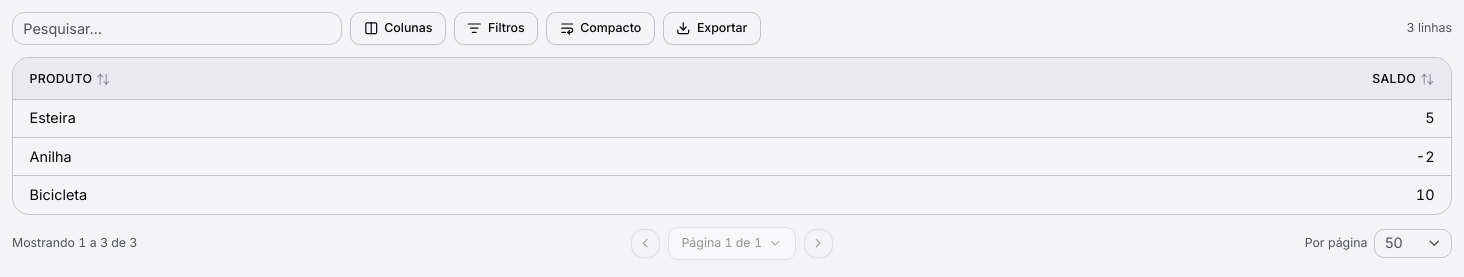
Scenario: DataTable busca (c2) › filtra por texto em coluna texto
The image size is (1464, 277).
Type "este" into the field with placeholder "Pesquisar…" at coordinates (177, 28), box [12, 12, 342, 45]
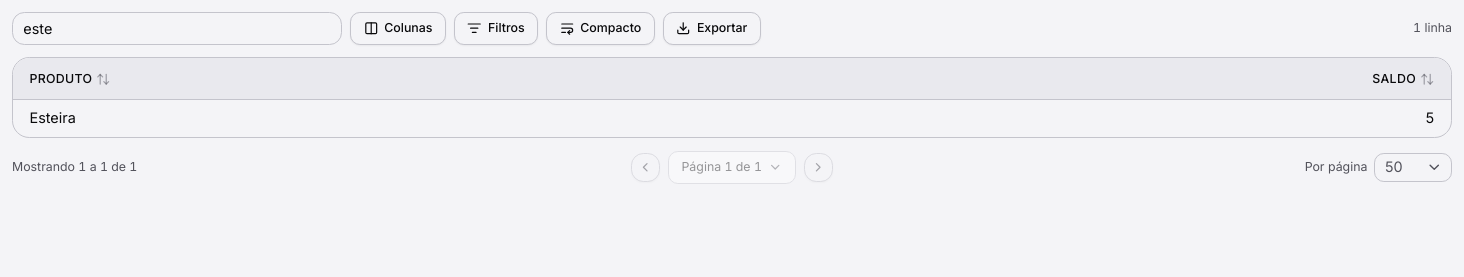
Check: the text "Esteira" is shown, box [13, 100, 798, 137]
Check: the text "Anilha" is gone
